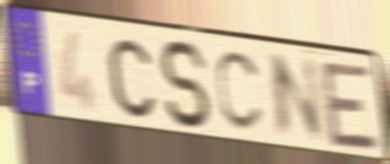4: (56, 28, 99, 116)
C: (105, 36, 158, 122), (213, 49, 265, 136)
E: (318, 58, 383, 155)
N: (267, 52, 327, 142)
S: (156, 37, 216, 133)
